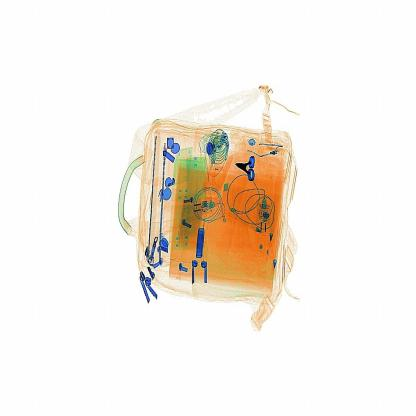gun: (233, 151, 262, 193)
